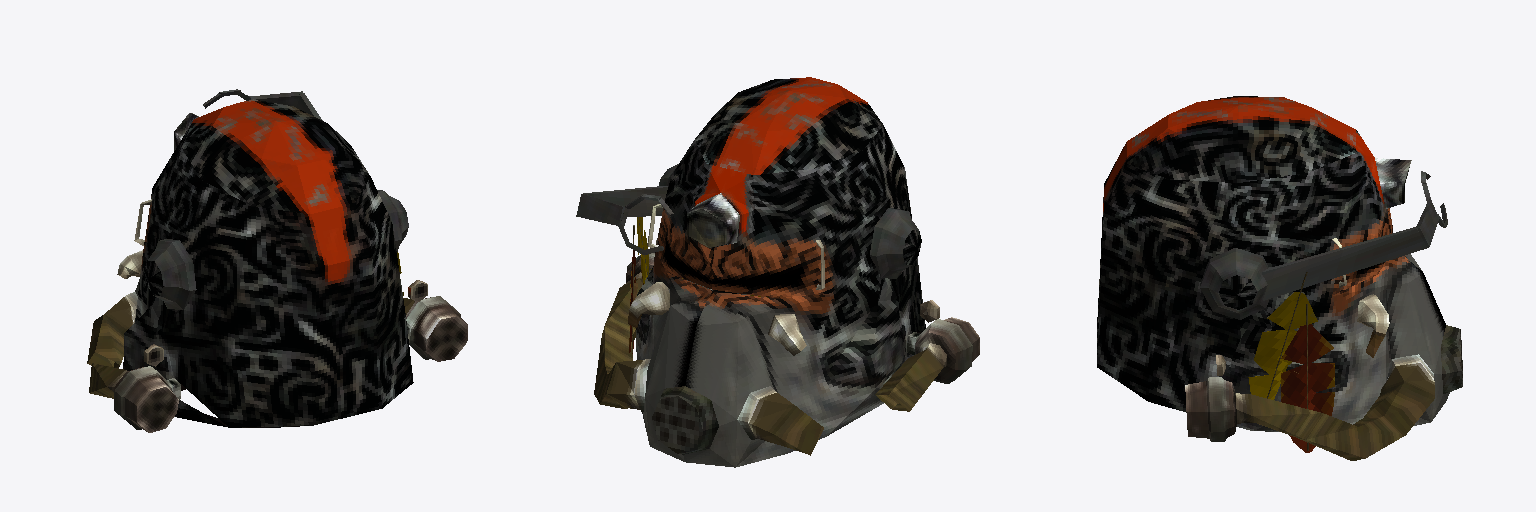
The picture shows the model from 3 angles: view 1: azimuth 30°, elevation 25°; view 2: azimuth 150°, elevation 25°; view 3: azimuth 270°, elevation 25°; orthographic projection.
Parts seen in each view (by area): view 1: Box04; view 2: Box04; view 3: Box04.
Boxes of the visible parts, x1,y1,x2,y2 form: Box04: [87, 89, 467, 432]; Box04: [576, 77, 979, 467]; Box04: [1097, 96, 1462, 460].
Size of the model in its own units: 0.4878 by 0.4132 by 0.4564.
1 materials, 1 textured.